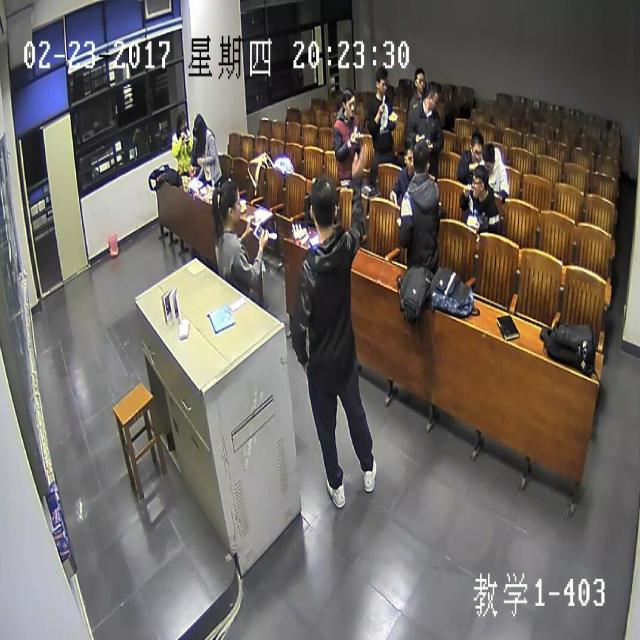person: (308, 177, 337, 233), (217, 177, 240, 224), (470, 161, 489, 201), (341, 88, 357, 119), (422, 81, 438, 111), (412, 138, 428, 168), (373, 66, 387, 96), (404, 140, 416, 173), (468, 130, 480, 162), (412, 64, 424, 92), (482, 136, 493, 166), (192, 111, 204, 137), (176, 111, 186, 130)
